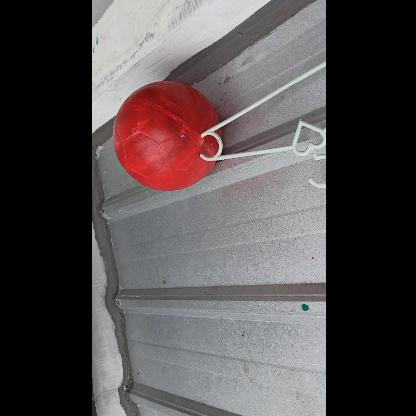red_ball: (111, 82, 221, 192)
